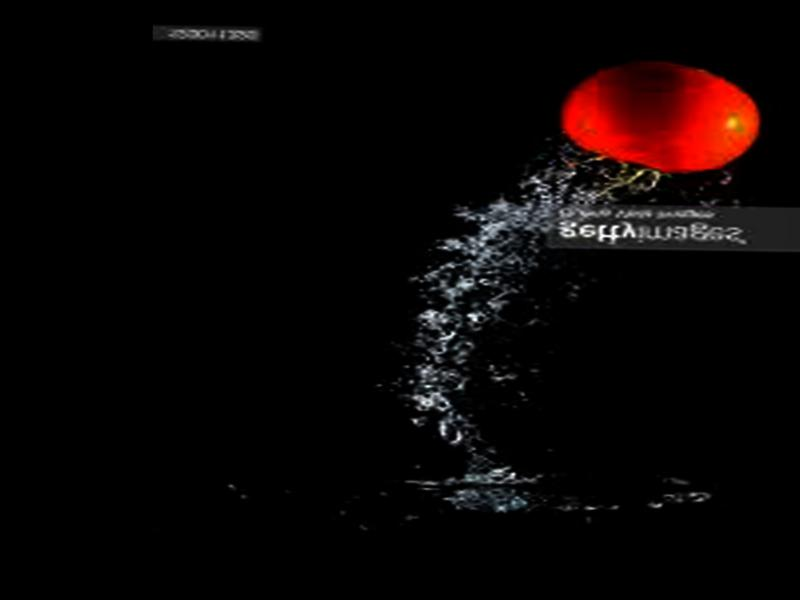Tomato: (557, 63, 761, 174)
